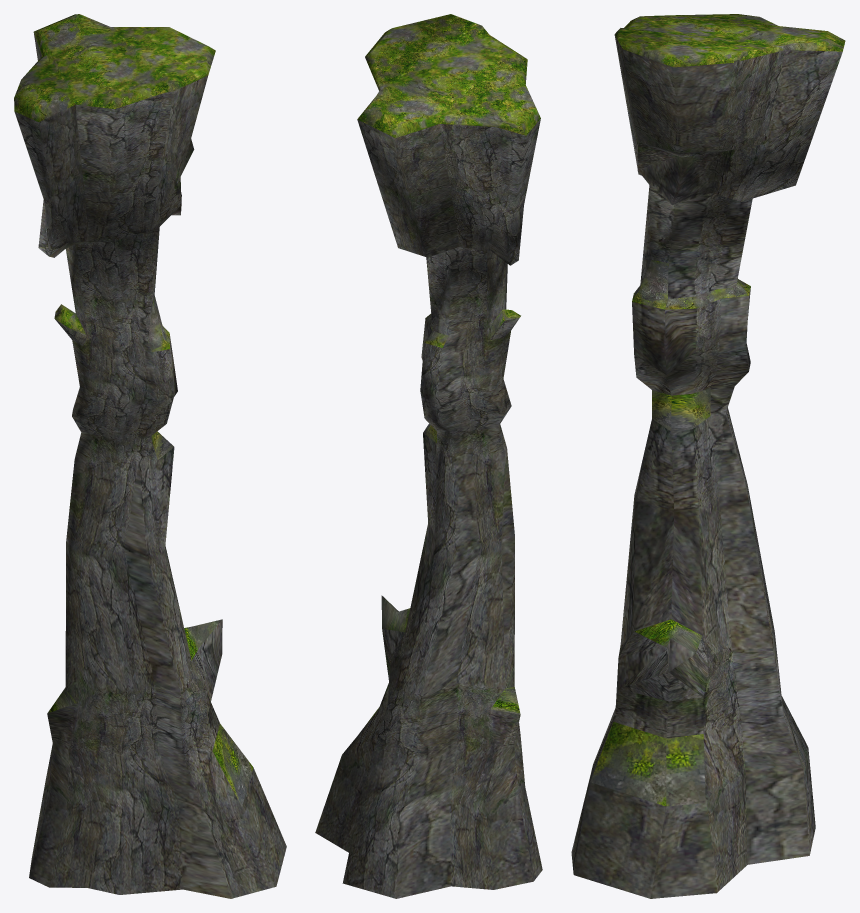
Rendered from S_Rock_Green002.FBX.
3 views of the same model, side by side, from view 1: azimuth 30°, elevation 25°; view 2: azimuth 150°, elevation 25°; view 3: azimuth 270°, elevation 25° (orthographic).
Parts seen in each view (by area): view 1: S_Rock_Green002; view 2: S_Rock_Green002; view 3: S_Rock_Green002.
Part boxes in pixels (bbox=[...]): S_Rock_Green002: bbox=[14, 14, 286, 898]; S_Rock_Green002: bbox=[315, 14, 542, 898]; S_Rock_Green002: bbox=[571, 14, 845, 898].
Size of the model in its own units: 2009 by 2059 by 6718.
